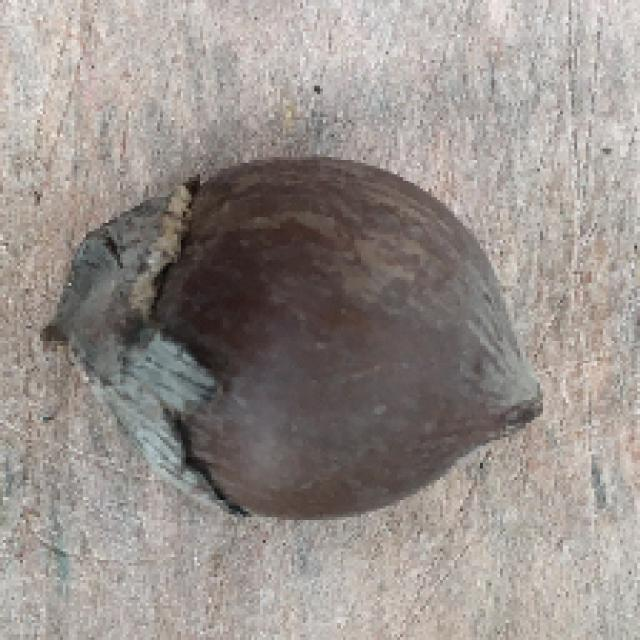DamagedHazelnut: (49, 156, 543, 520)
